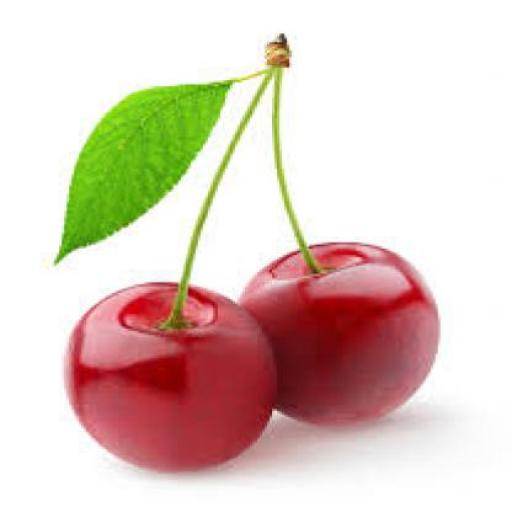biodegradable: (62, 274, 274, 469), (243, 242, 438, 426), (49, 78, 233, 264)
